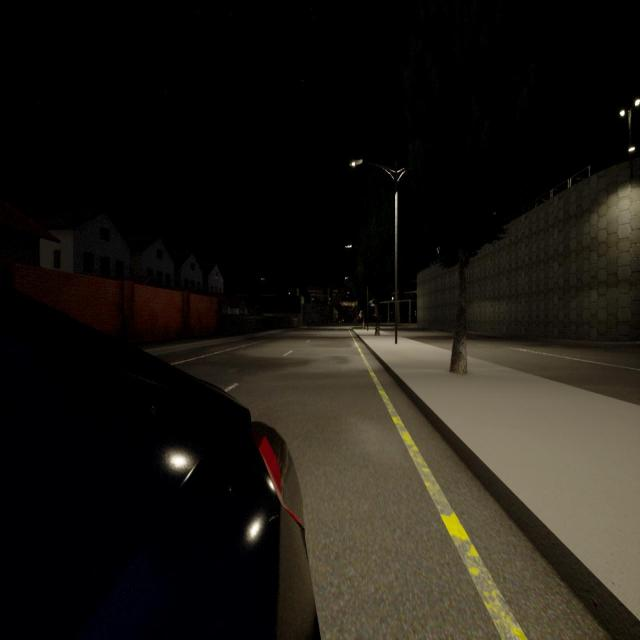Vehicle: (0, 296, 314, 637)
